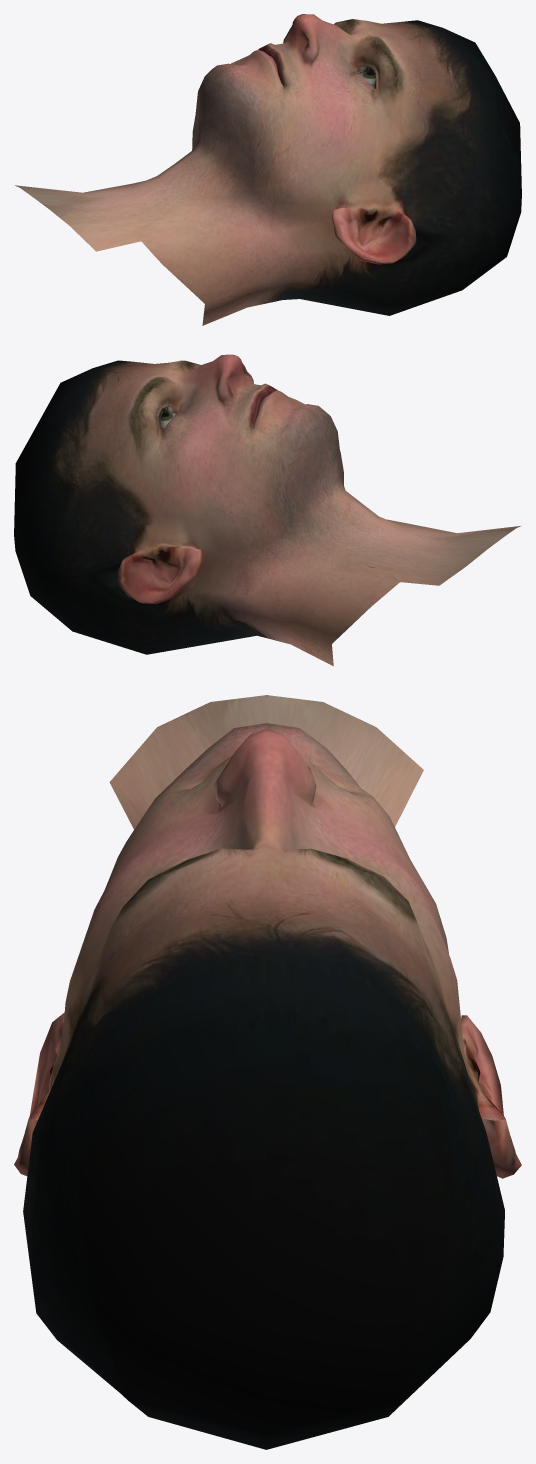
The model's file is head_russian_winter_datien.glb.
3 views of the same model, one above another, from view 1: azimuth 30°, elevation 25°; view 2: azimuth 150°, elevation 25°; view 3: azimuth 270°, elevation 25° (orthographic). The views are drawn at different scales.
Size of the model in its own units: 15.73 by 9.61 by 7.37.
1 material, 1 textured.
